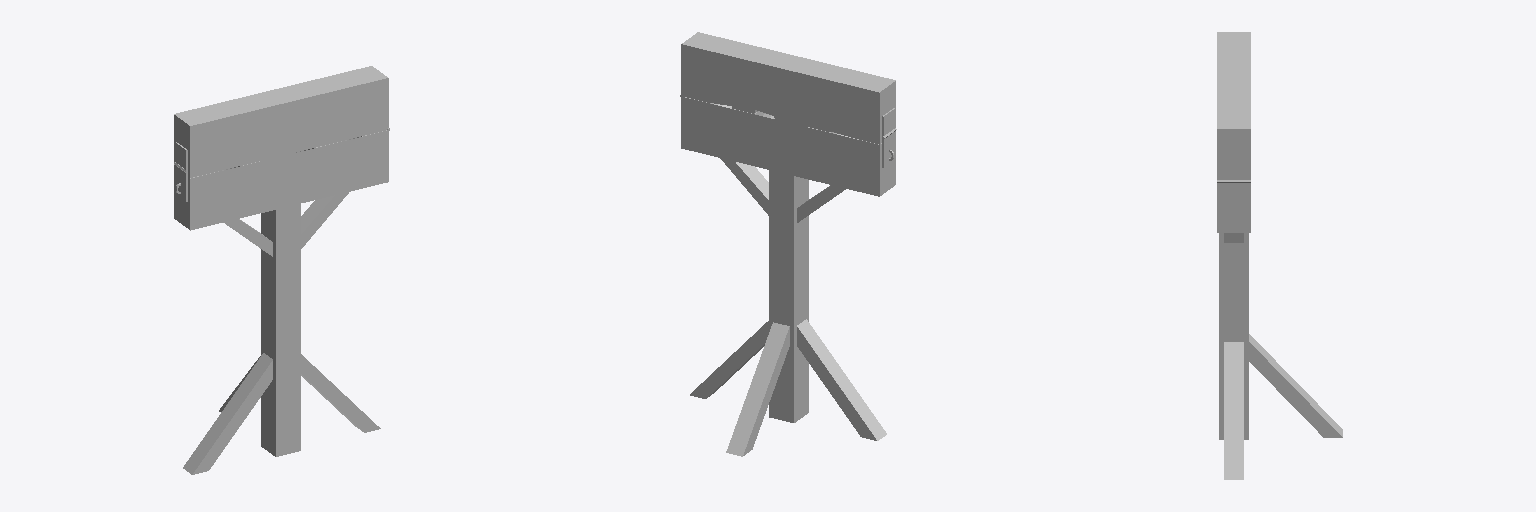
File: torture_device_14_001.obj
3 views of the same model, side by side, from view 1: azimuth 30°, elevation 25°; view 2: azimuth 150°, elevation 25°; view 3: azimuth 270°, elevation 25° (orthographic).
Visible parts, largest first — view 1: torture_device_014; view 2: torture_device_014; view 3: torture_device_014.
Boxes of the visible parts, x1=… form: torture_device_014: x1=174, y1=66, x2=389, y2=474; torture_device_014: x1=680, y1=32, x2=896, y2=456; torture_device_014: x1=1217, y1=32, x2=1342, y2=479.
Size of the model in its own units: 0.9304 by 1.52 by 0.4915.